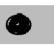correct: (4, 11, 34, 36)
